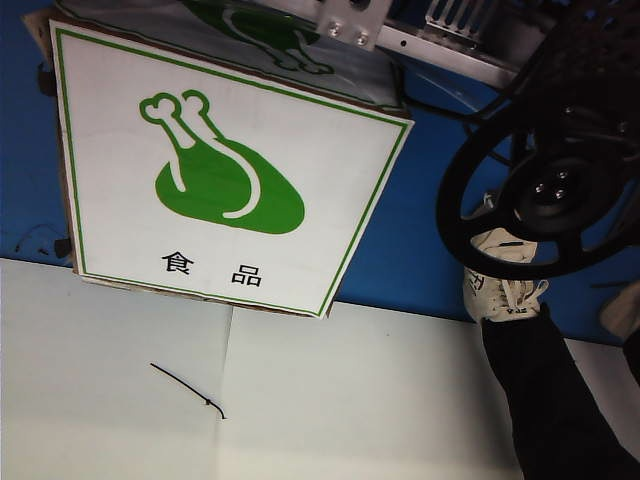Cube_food: (133, 82, 313, 301)
